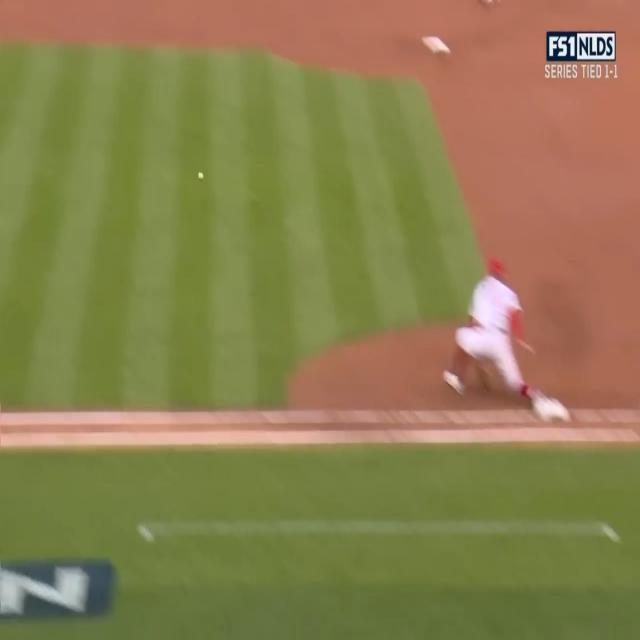baseball: (197, 171, 204, 180)
